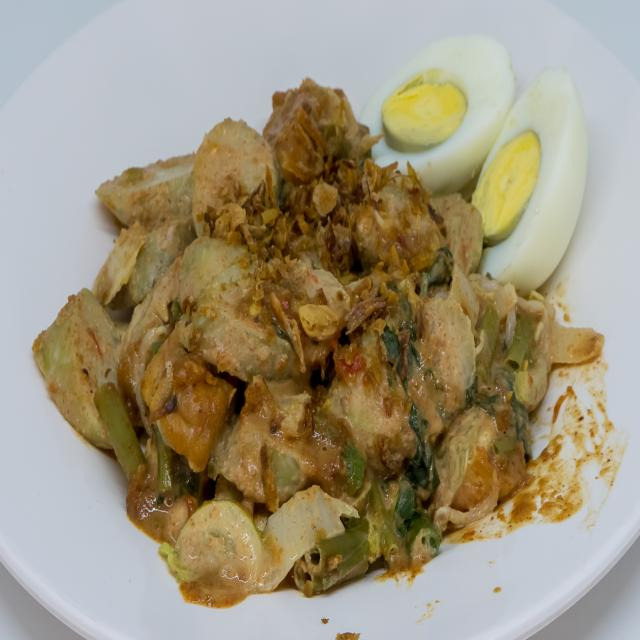Gado-Gado: (22, 24, 610, 618)
